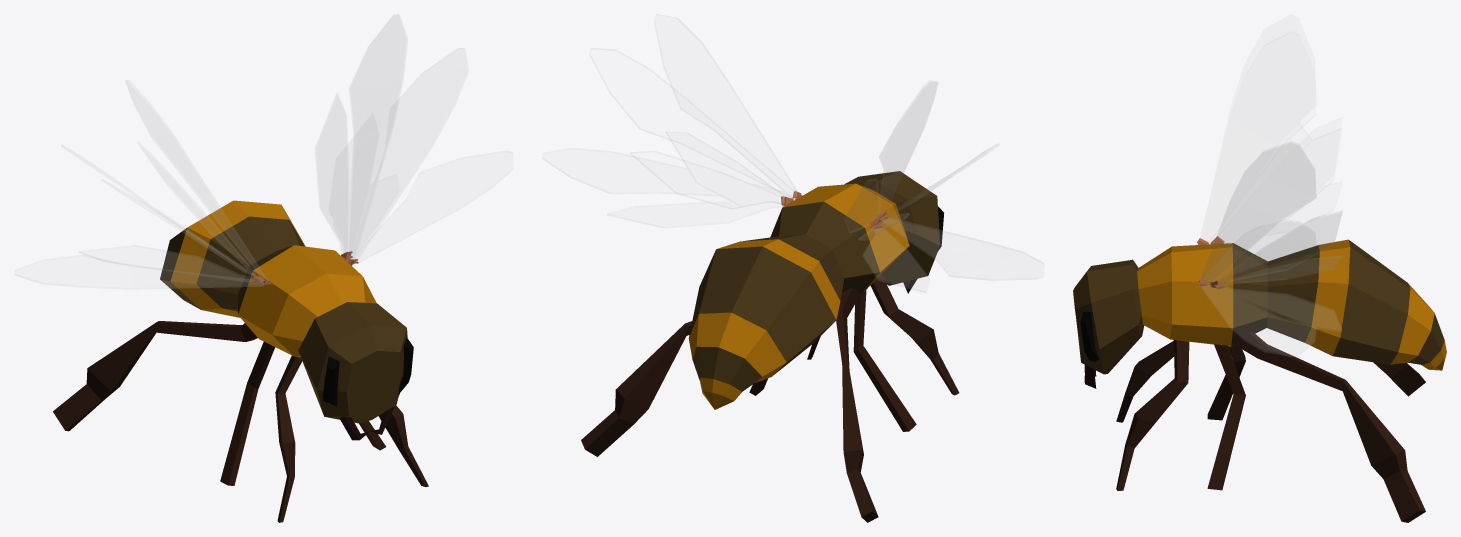
Rendered from abeille_qualite_moyenne.fbx.
The picture shows the model from 3 angles, left to right: view 1: azimuth 30°, elevation 25°; view 2: azimuth 150°, elevation 25°; view 3: azimuth 270°, elevation 25°; orthographic projection. The views are drawn at different scales.
Parts seen in each view (by area): view 1: Abeille, Aile_2, Aile_defaut, Aile_1; view 2: Abeille, Aile_2, Aile_defaut, Aile_1; view 3: Abeille, Aile_2, Aile_1, Aile_defaut.
Boxes of the visible parts, bbox=[...] form: Abeille: bbox=[53, 200, 428, 522]; Aile_2: bbox=[126, 14, 407, 284]; Aile_defaut: bbox=[15, 151, 512, 288]; Aile_1: bbox=[62, 48, 468, 283]; Abeille: bbox=[581, 171, 959, 522]; Aile_2: bbox=[654, 14, 937, 232]; Aile_defaut: bbox=[543, 148, 1043, 292]; Aile_1: bbox=[590, 48, 999, 239]; Abeille: bbox=[1073, 239, 1446, 522]; Aile_2: bbox=[1198, 14, 1341, 287]; Aile_1: bbox=[1197, 32, 1341, 286]; Aile_defaut: bbox=[1197, 124, 1341, 356].
Size of the model in its own units: 2.12 by 1.61 by 1.43.
